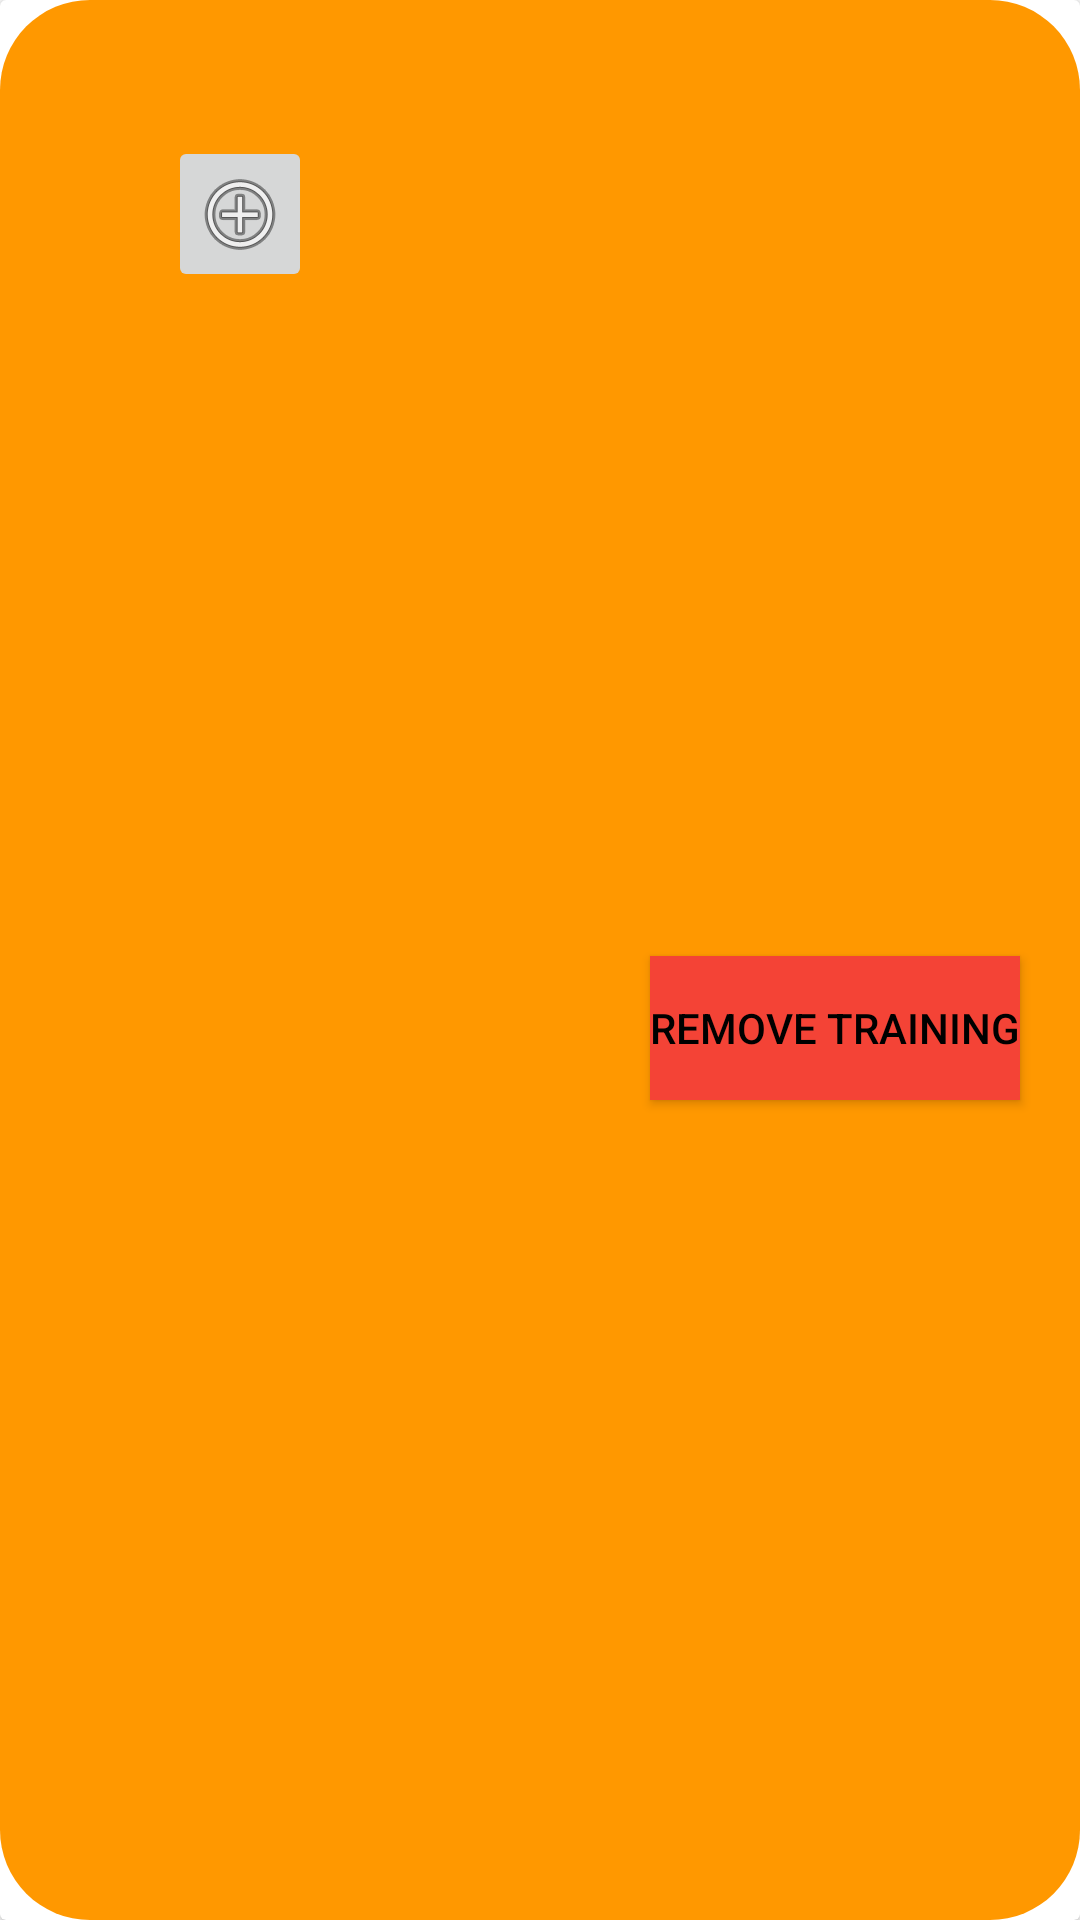

Icons on this 1080 × 1920 Android screen, each with the point to tap as (x,y):
add: (240,214)
